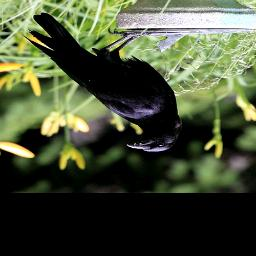Crow: (21, 11, 182, 152)
